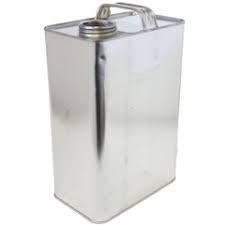Tin: (26, 9, 197, 225)
